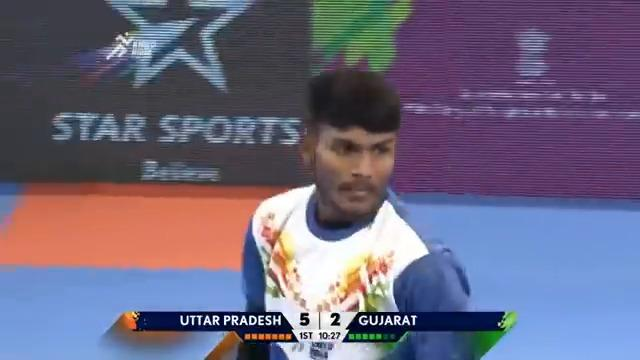Player: (204, 65, 479, 357)
